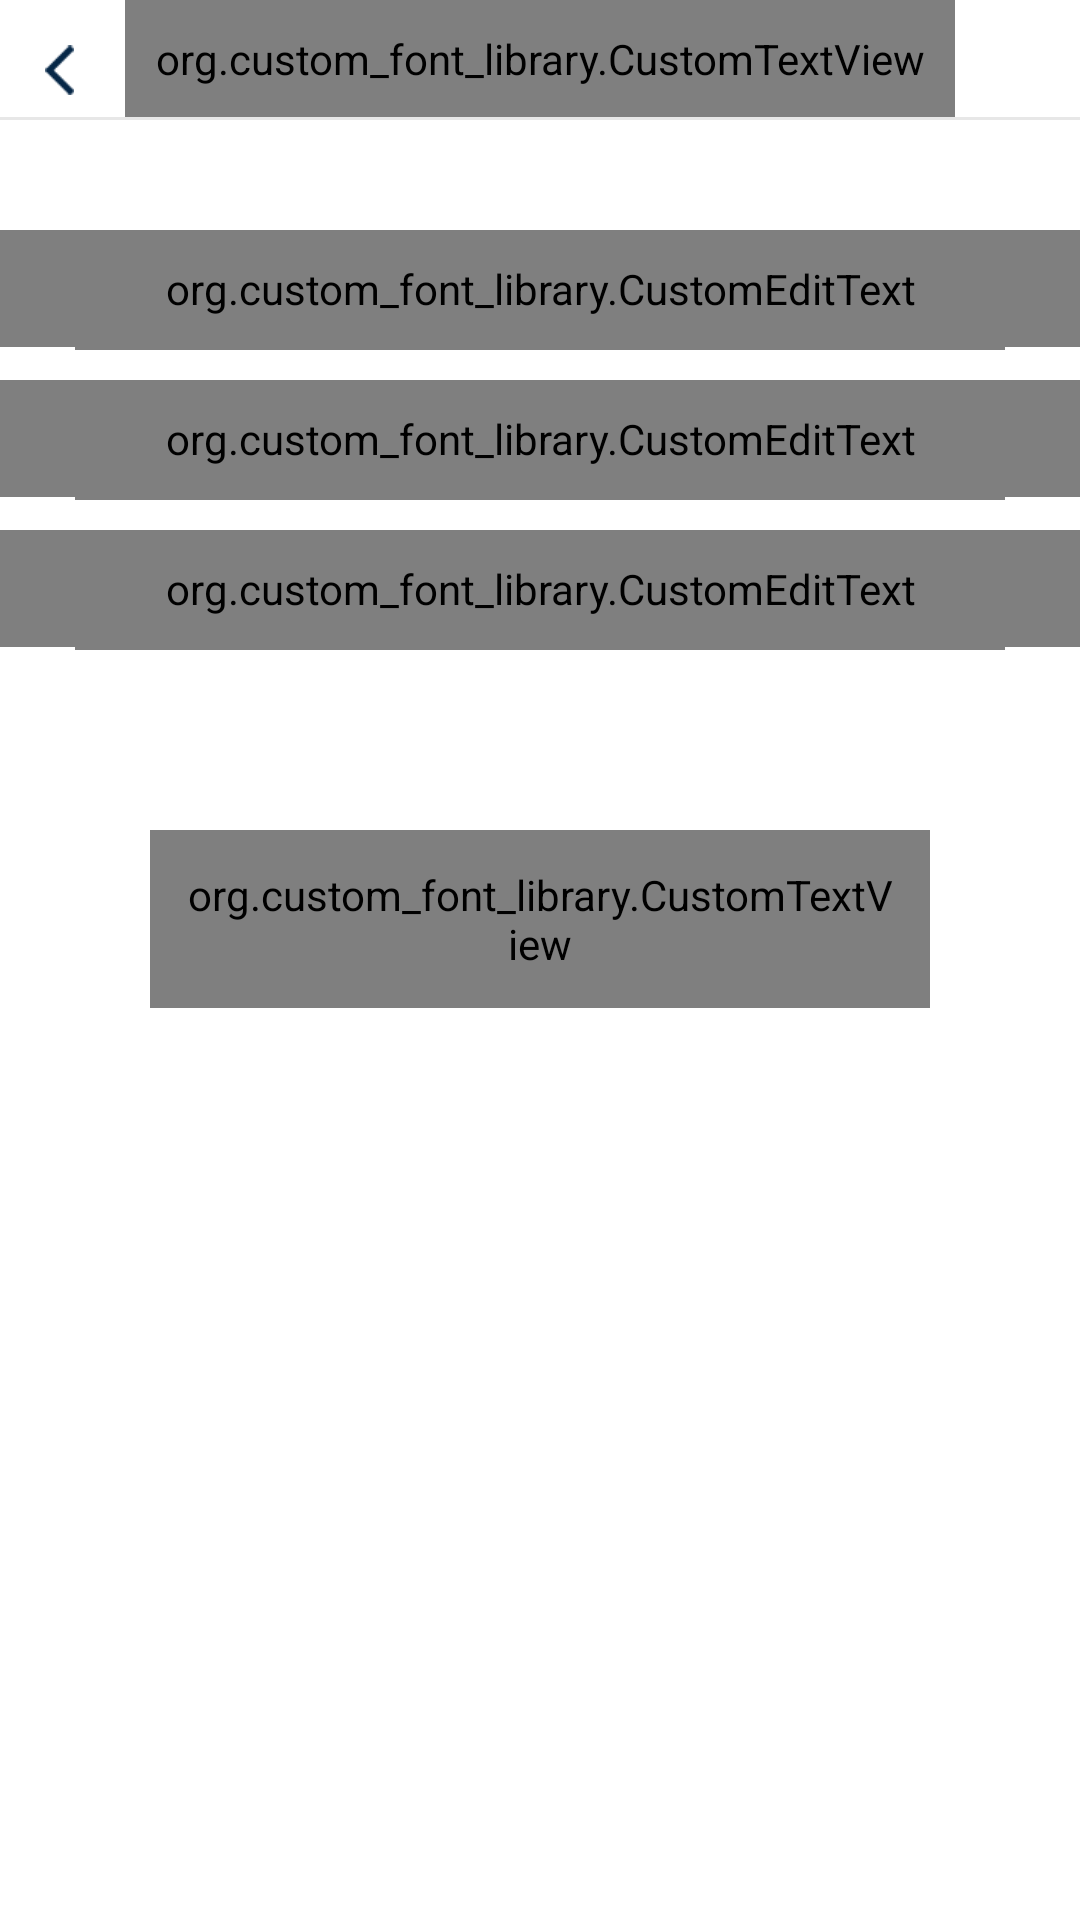

Where to tap for icons on this 1080x1920 app screen, as point (x, y):
back arrow: point (59, 70)
